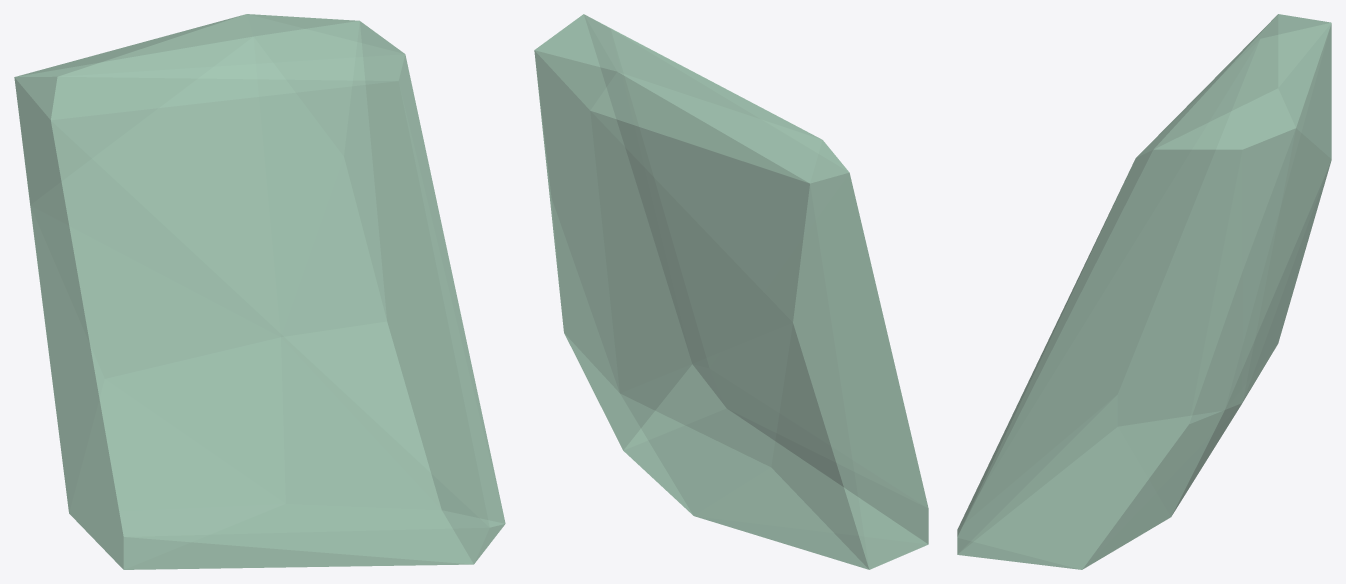
3 renders of one model, left to right at view 1: azimuth 30°, elevation 25°; view 2: azimuth 150°, elevation 25°; view 3: azimuth 270°, elevation 25°, orthographic. The views are drawn at different scales.
Parts seen in each view (by area): view 1: Shape_IndexedFaceSet.018_Shape_IndexedFaceSet.11439; view 2: Shape_IndexedFaceSet.018_Shape_IndexedFaceSet.11439; view 3: Shape_IndexedFaceSet.018_Shape_IndexedFaceSet.11439.
Part boxes in pixels (<box>): Shape_IndexedFaceSet.018_Shape_IndexedFaceSet.11439: <box>14,14,505,569</box>; Shape_IndexedFaceSet.018_Shape_IndexedFaceSet.11439: <box>534,14,928,569</box>; Shape_IndexedFaceSet.018_Shape_IndexedFaceSet.11439: <box>957,14,1331,569</box>.
Size of the model in its own units: 0.0356 by 0.0505 by 0.0393.
